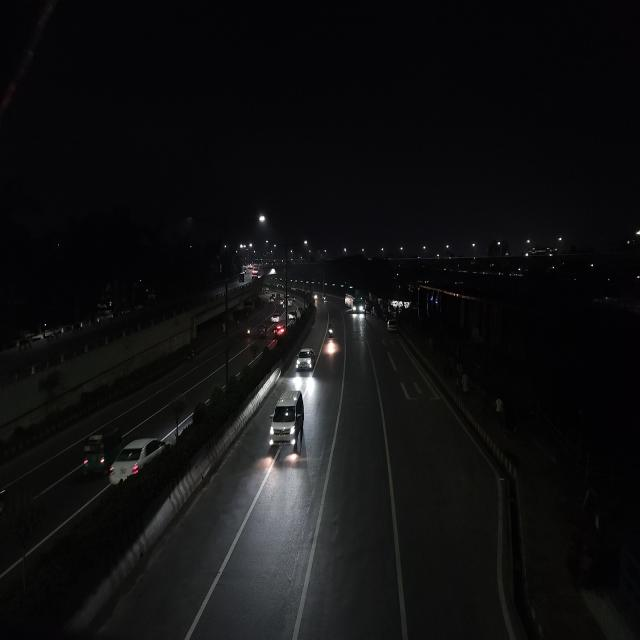bus: (352, 294, 366, 316)
car: (109, 432, 173, 485), (265, 386, 307, 454), (294, 347, 316, 375), (385, 314, 399, 334), (273, 322, 287, 338), (270, 310, 284, 325), (288, 310, 296, 324)
cng: (80, 427, 110, 474), (258, 323, 269, 338)
motorcycle: (327, 336, 338, 355), (326, 323, 336, 341), (245, 324, 253, 340)
